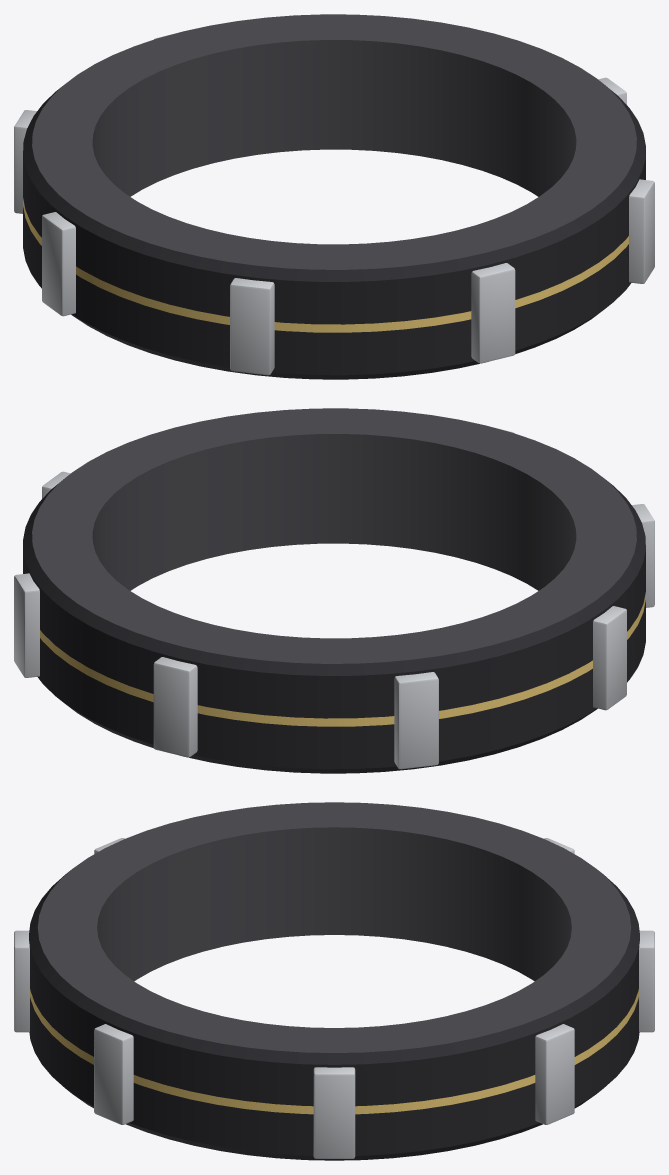
The model's file is decoupler_s.glb.
The picture shows the model from 3 angles, top to bottom: view 1: azimuth 30°, elevation 25°; view 2: azimuth 150°, elevation 25°; view 3: azimuth 270°, elevation 25°; orthographic projection.
Visible parts, largest first — view 1: decoupler_s; view 2: decoupler_s; view 3: decoupler_s.
Boxes of the visible parts, x1,y1,x2,y2 form: decoupler_s: (14,14,654,379); decoupler_s: (14,408,654,773); decoupler_s: (14,802,654,1160).
Bounding box in the file's own units: 0.648 × 0.12 × 0.648.
